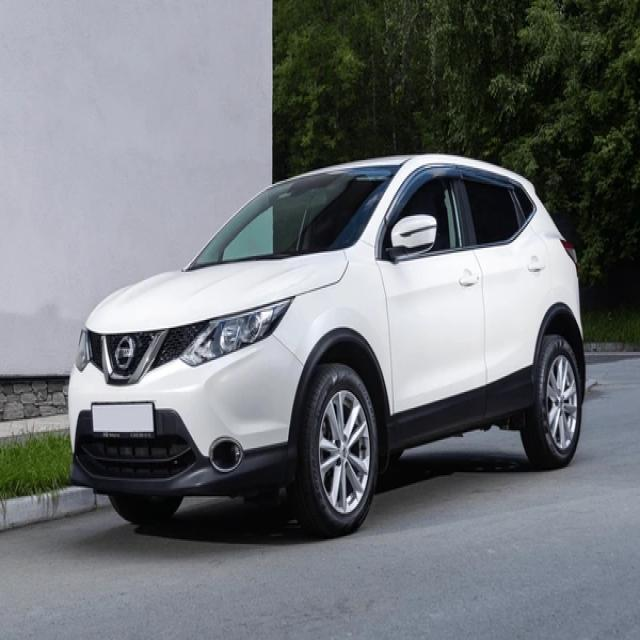nissan: (113, 336, 137, 374)
